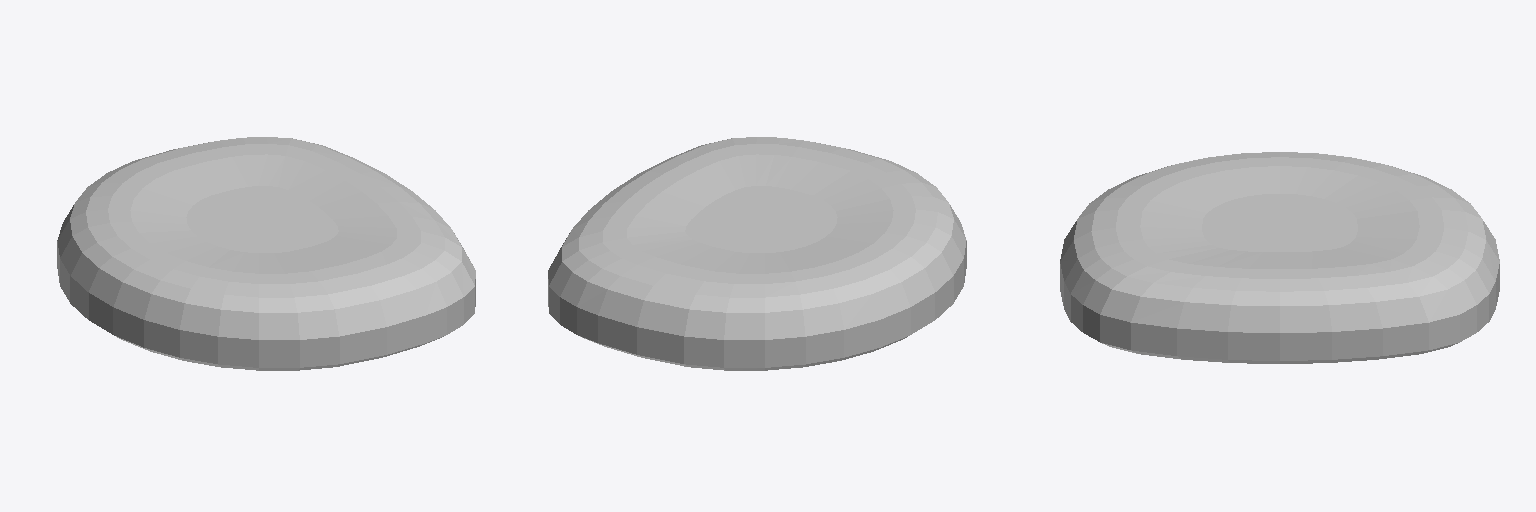
Rendered from Option2_P.obj.
3 views of the same model, side by side, from view 1: azimuth 30°, elevation 25°; view 2: azimuth 150°, elevation 25°; view 3: azimuth 270°, elevation 25° (orthographic).
Parts seen in each view (by area): view 1: seat; view 2: seat; view 3: seat.
Boxes of the visible parts, x1,y1,x2,y2 form: seat: [57, 137, 475, 370]; seat: [548, 137, 966, 370]; seat: [1060, 152, 1499, 363].
Bounding box in the file's own units: 1.95 × 0.4271 × 2.22.